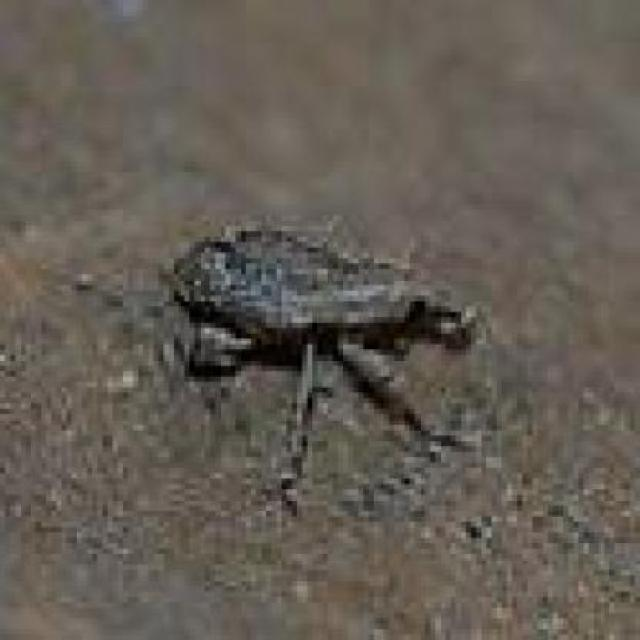rice-bug: (169, 223, 469, 474)
